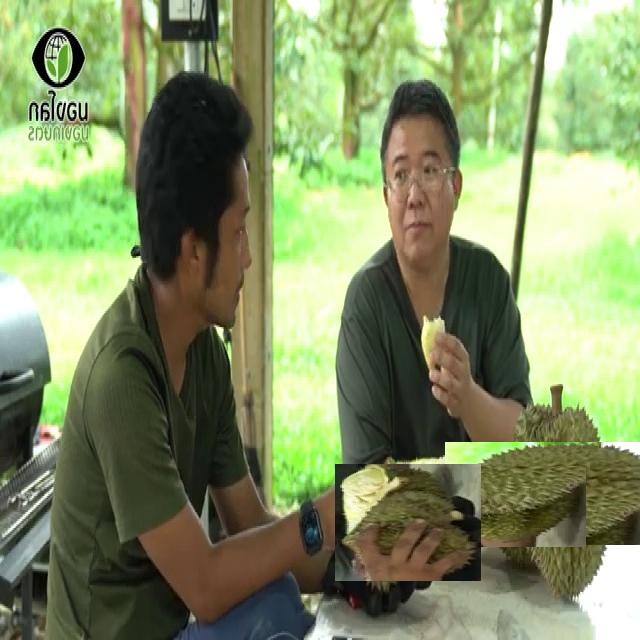durian: (476, 410, 640, 576), (342, 456, 474, 589), (463, 452, 572, 562)
